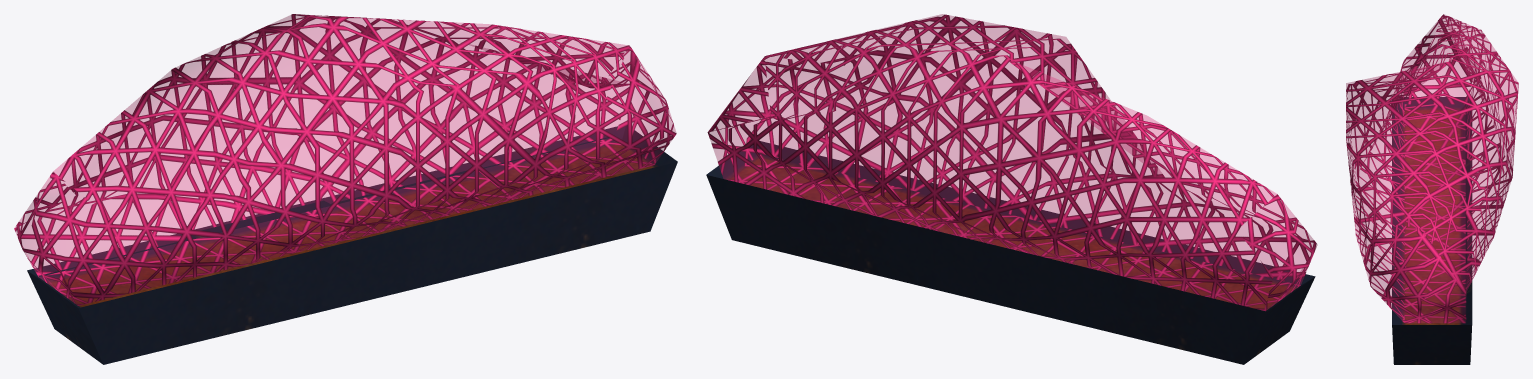
File: Pot_01.glb
The picture shows the model from 3 angles, left to right: view 1: azimuth 30°, elevation 25°; view 2: azimuth 150°, elevation 25°; view 3: azimuth 270°, elevation 25°; orthographic projection. The views are drawn at different scales.
Parts seen in each view (by area): view 1: Pot_01_Plant, Pot_01; view 2: Pot_01_Plant, Pot_01; view 3: Pot_01_Plant, Pot_01.
Part boxes in pixels (<box>): Pot_01_Plant: <box>14,14,676,305</box>; Pot_01: <box>27,125,677,364</box>; Pot_01_Plant: <box>707,14,1317,311</box>; Pot_01: <box>706,141,1315,364</box>; Pot_01_Plant: <box>1346,14,1518,323</box>; Pot_01: <box>1392,97,1472,364</box>.
Size of the model in its own units: 2.07 by 0.7946 by 0.6262.
Materials: 2 (2 with a texture image).
